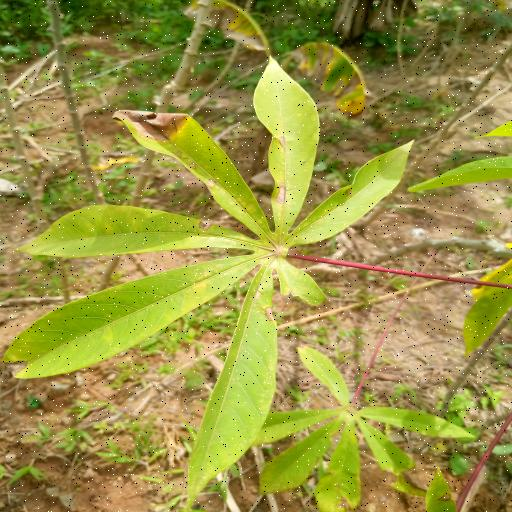Cassava_Brown_Leaf_Spot: (5, 55, 422, 509)
